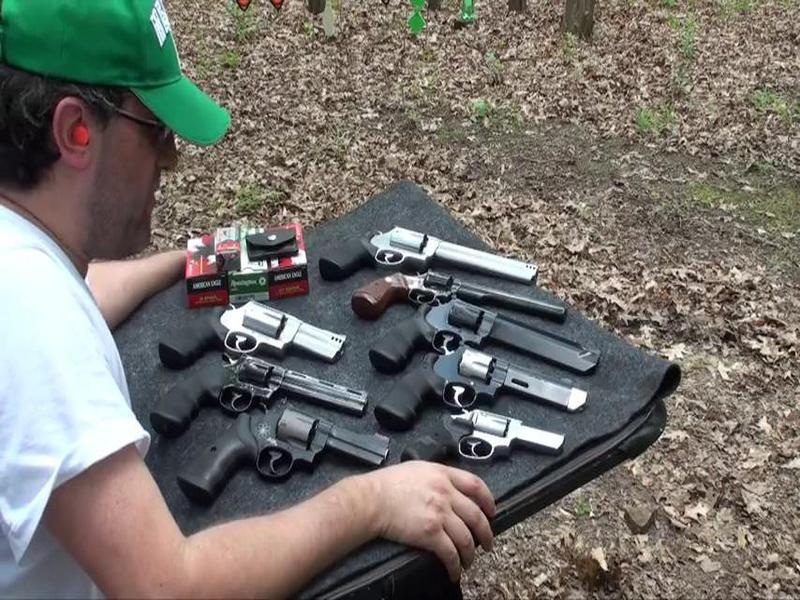Revolver: (363, 294, 611, 379)
